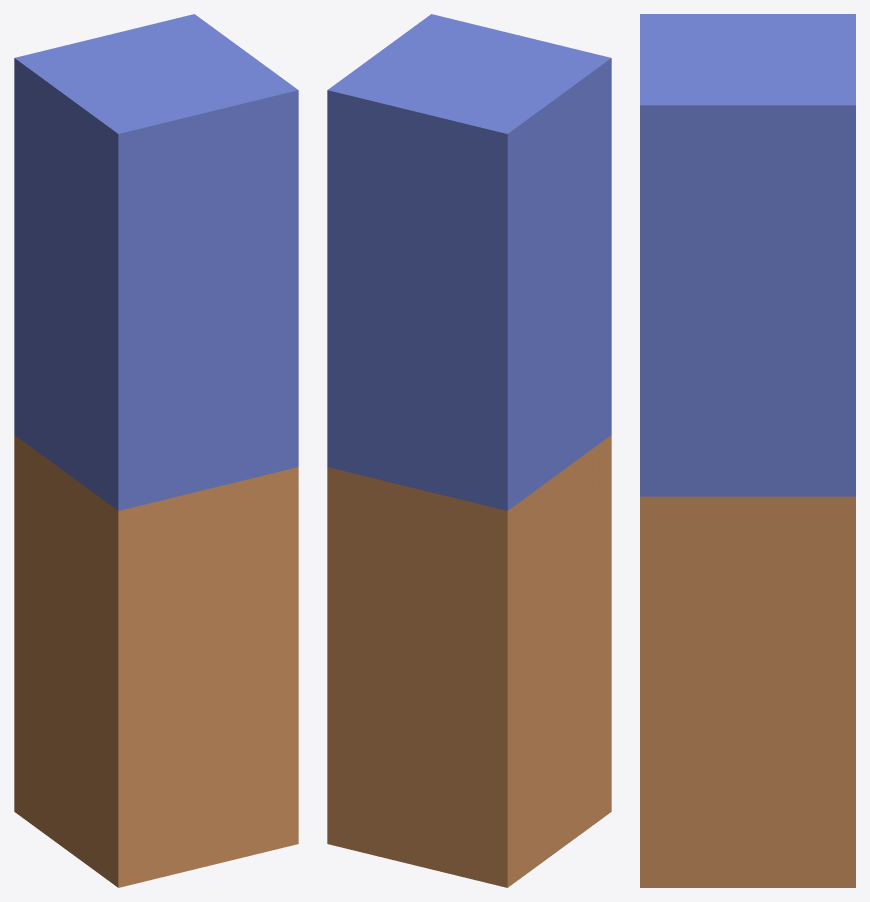
File: Hand.obj
The picture shows the model from 3 angles, left to right: view 1: azimuth 30°, elevation 25°; view 2: azimuth 150°, elevation 25°; view 3: azimuth 270°, elevation 25°; orthographic projection. The views are drawn at different scales.
Parts seen in each view (by area): view 1: Char-2; view 2: Char-2; view 3: Char-2.
Part boxes in pixels (bbox=[...]): Char-2: bbox=[14, 14, 298, 887]; Char-2: bbox=[327, 14, 611, 887]; Char-2: bbox=[640, 14, 855, 887].
Bounding box in the file's own units: 2 × 8 × 2.
Materials: 1 (1 with a texture image).
